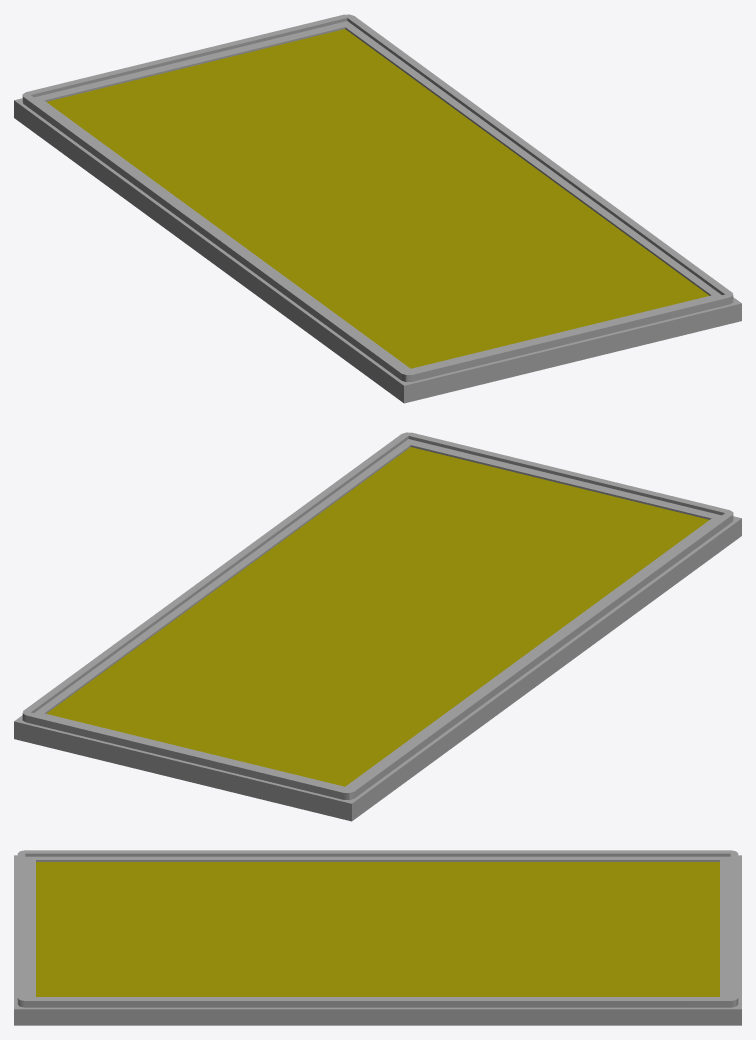
The model's file is SM_Ceiling_05_C.fbx.
3 views of the same model, one above another, from view 1: azimuth 30°, elevation 25°; view 2: azimuth 150°, elevation 25°; view 3: azimuth 270°, elevation 25° (orthographic). The views are drawn at different scales.
Parts seen in each view (by area): view 1: polySurface4040; view 2: polySurface4040; view 3: polySurface4040.
Part boxes in pixels (x1=…): polySurface4040: x1=14, y1=14, x2=741, y2=403; polySurface4040: x1=14, y1=432, x2=741, y2=821; polySurface4040: x1=14, y1=850, x2=741, y2=1025.
Size of the model in its own units: 100 by 7 by 200.
